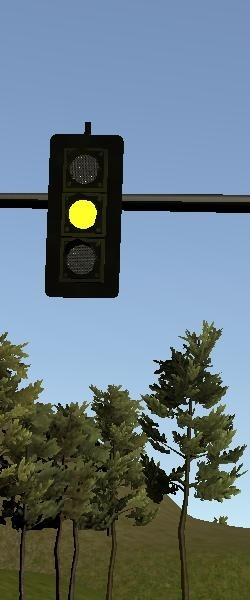Yellow: (44, 134, 120, 296)
